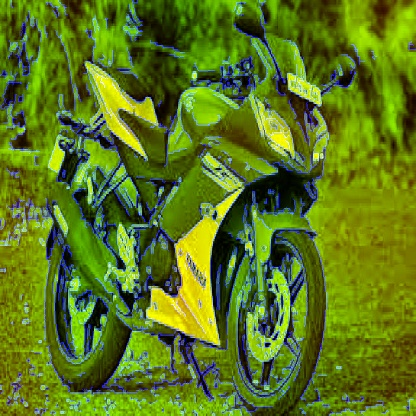bike: (49, 21, 339, 400)
